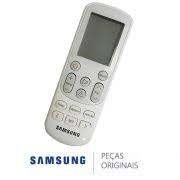remote control: (42, 0, 136, 152)
